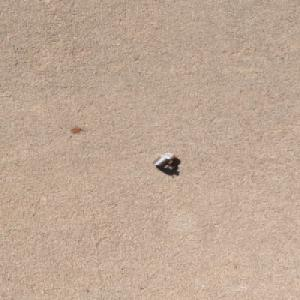MetalPart: (150, 151, 176, 170)
